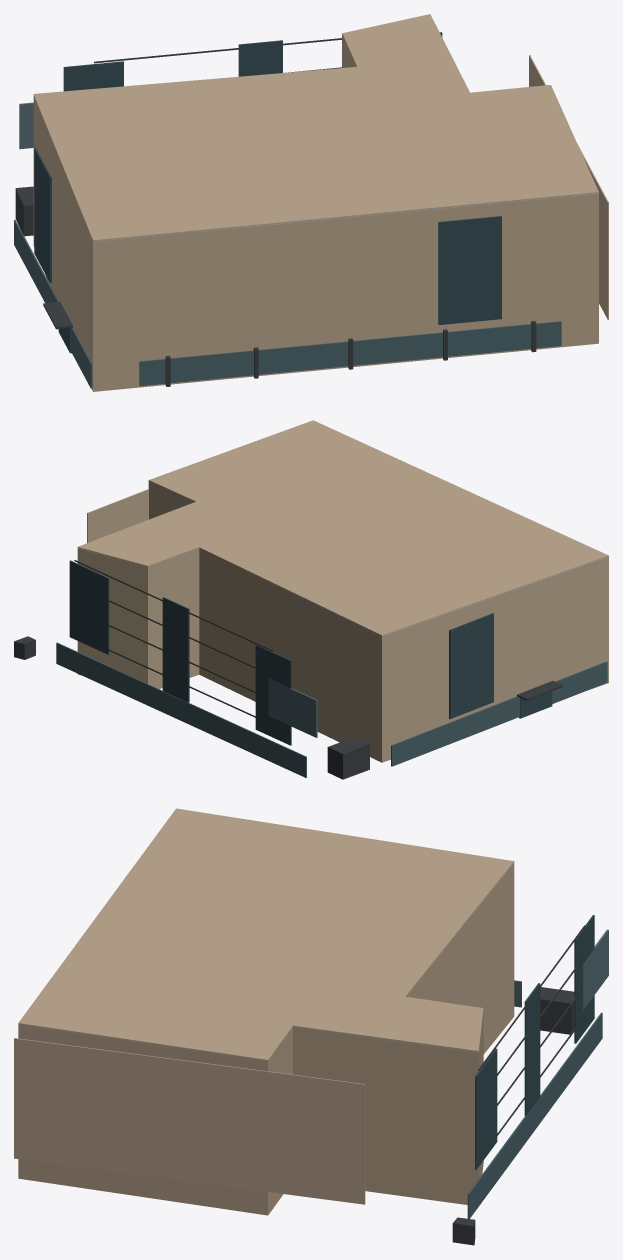
File: bgc_building_0014_lod1.glb
3 renders of one model, top to bottom at view 1: azimuth 30°, elevation 25°; view 2: azimuth 150°, elevation 25°; view 3: azimuth 270°, elevation 25°, orthographic. The views are drawn at different scales.
Parts seen in each view (by area): view 1: BGC_RUNTIME_001_CSQ_MASSING_Main_Volume, BGC_RUNTIME_017_CSQ_FACADE_HIGH_STREET_Ground_Storefront, BGC_RUNTIME_018_CSQ_FACADE_HIGH_STREET_Tall_Glazed_Strip, BGC_RUNTIME_014_CSQ_FACADE_5TH_Tall_Glazed_Bay, BGC_RUNTIME_013_CSQ_FACADE_5TH_Ground_Storefront, BGC_RUNTIME_024_CSQ_FACADE_OTHER_Neutral_Plane, BGC_RUNTIME_005_CSQ_FACADE_30TH_Glazed_Zone_01, BGC_RUNTIME_006_CSQ_FACADE_30TH_Glazed_Zone_02, BGC_RUNTIME_CSQ_SOUTH_COLUMNS, BGC_RUNTIME_002_CSQ_MASSING_Northwest_Column, BGC_RUNTIME_025_CSQ_ROOF_Major_Plane, BGC_RUNTIME_012_CSQ_SIGNAGE_Northwest_Neutral_Display (+2 smaller); view 2: BGC_RUNTIME_001_CSQ_MASSING_Main_Volume, BGC_RUNTIME_004_CSQ_FACADE_30TH_Ground_Storefront, BGC_RUNTIME_013_CSQ_FACADE_5TH_Ground_Storefront, BGC_RUNTIME_014_CSQ_FACADE_5TH_Tall_Glazed_Bay, BGC_RUNTIME_007_CSQ_FACADE_30TH_Glazed_Zone_03, BGC_RUNTIME_006_CSQ_FACADE_30TH_Glazed_Zone_02, BGC_RUNTIME_005_CSQ_FACADE_30TH_Glazed_Zone_01, BGC_RUNTIME_012_CSQ_SIGNAGE_Northwest_Neutral_Display, BGC_RUNTIME_024_CSQ_FACADE_OTHER_Neutral_Plane, BGC_RUNTIME_002_CSQ_MASSING_Northwest_Column, BGC_RUNTIME_CSQ_NORTH_BANDS, BGC_RUNTIME_025_CSQ_ROOF_Major_Plane (+1 smaller); view 3: BGC_RUNTIME_001_CSQ_MASSING_Main_Volume, BGC_RUNTIME_024_CSQ_FACADE_OTHER_Neutral_Plane, BGC_RUNTIME_004_CSQ_FACADE_30TH_Ground_Storefront, BGC_RUNTIME_007_CSQ_FACADE_30TH_Glazed_Zone_03, BGC_RUNTIME_006_CSQ_FACADE_30TH_Glazed_Zone_02, BGC_RUNTIME_005_CSQ_FACADE_30TH_Glazed_Zone_01, BGC_RUNTIME_002_CSQ_MASSING_Northwest_Column, BGC_RUNTIME_012_CSQ_SIGNAGE_Northwest_Neutral_Display, BGC_RUNTIME_CSQ_NORTH_BANDS, BGC_RUNTIME_025_CSQ_ROOF_Major_Plane, BGC_RUNTIME_003_CSQ_MASSING_Northeast_Column.
Boxes of the visible parts, <box> form: BGC_RUNTIME_001_CSQ_MASSING_Main_Volume: <box>33,14,598,391</box>; BGC_RUNTIME_017_CSQ_FACADE_HIGH_STREET_Ground_Storefront: <box>139,321,561,386</box>; BGC_RUNTIME_018_CSQ_FACADE_HIGH_STREET_Tall_Glazed_Strip: <box>438,216,501,324</box>; BGC_RUNTIME_014_CSQ_FACADE_5TH_Tall_Glazed_Bay: <box>34,148,51,282</box>; BGC_RUNTIME_013_CSQ_FACADE_5TH_Ground_Storefront: <box>14,219,92,388</box>; BGC_RUNTIME_024_CSQ_FACADE_OTHER_Neutral_Plane: <box>529,55,608,319</box>; BGC_RUNTIME_005_CSQ_FACADE_30TH_Glazed_Zone_01: <box>63,61,123,91</box>; BGC_RUNTIME_006_CSQ_FACADE_30TH_Glazed_Zone_02: <box>238,40,282,76</box>; BGC_RUNTIME_CSQ_SOUTH_COLUMNS: <box>165,321,536,386</box>; BGC_RUNTIME_002_CSQ_MASSING_Northwest_Column: <box>15,186,33,236</box>; BGC_RUNTIME_025_CSQ_ROOF_Major_Plane: <box>35,35,598,241</box>; BGC_RUNTIME_012_CSQ_SIGNAGE_Northwest_Neutral_Display: <box>19,102,33,149</box>; BGC_RUNTIME_001_CSQ_MASSING_Main_Volume: <box>77,420,608,762</box>; BGC_RUNTIME_004_CSQ_FACADE_30TH_Ground_Storefront: <box>56,642,306,777</box>; BGC_RUNTIME_013_CSQ_FACADE_5TH_Ground_Storefront: <box>391,661,607,766</box>; BGC_RUNTIME_014_CSQ_FACADE_5TH_Tall_Glazed_Bay: <box>449,613,493,718</box>; BGC_RUNTIME_007_CSQ_FACADE_30TH_Glazed_Zone_03: <box>69,560,109,654</box>; BGC_RUNTIME_006_CSQ_FACADE_30TH_Glazed_Zone_02: <box>162,597,189,702</box>; BGC_RUNTIME_005_CSQ_FACADE_30TH_Glazed_Zone_01: <box>255,644,291,745</box>; BGC_RUNTIME_012_CSQ_SIGNAGE_Northwest_Neutral_Display: <box>268,679,317,737</box>; BGC_RUNTIME_024_CSQ_FACADE_OTHER_Neutral_Plane: <box>87,489,148,542</box>; BGC_RUNTIME_002_CSQ_MASSING_Northwest_Column: <box>327,737,369,779</box>; BGC_RUNTIME_CSQ_NORTH_BANDS: <box>74,560,273,725</box>; BGC_RUNTIME_025_CSQ_ROOF_Major_Plane: <box>78,481,608,636</box>; BGC_RUNTIME_001_CSQ_MASSING_Main_Volume: <box>18,808,514,1215</box>; BGC_RUNTIME_024_CSQ_FACADE_OTHER_Neutral_Plane: <box>14,1038,365,1204</box>; BGC_RUNTIME_004_CSQ_FACADE_30TH_Ground_Storefront: <box>467,1012,602,1218</box>; BGC_RUNTIME_007_CSQ_FACADE_30TH_Glazed_Zone_03: <box>475,1048,497,1169</box>; BGC_RUNTIME_006_CSQ_FACADE_30TH_Glazed_Zone_02: <box>524,983,540,1115</box>; BGC_RUNTIME_005_CSQ_FACADE_30TH_Glazed_Zone_01: <box>574,915,594,1043</box>; BGC_RUNTIME_002_CSQ_MASSING_Northwest_Column: <box>540,987,574,1034</box>; BGC_RUNTIME_012_CSQ_SIGNAGE_Northwest_Neutral_Display: <box>583,929,608,1010</box>; BGC_RUNTIME_CSQ_NORTH_BANDS: <box>478,925,585,1135</box>; BGC_RUNTIME_025_CSQ_ROOF_Major_Plane: <box>18,862,514,1061</box>; BGC_RUNTIME_003_CSQ_MASSING_Northeast_Column: <box>452,1217,475,1245</box>.
Size of the model in its own units: 101 by 25.9 by 89.79.
